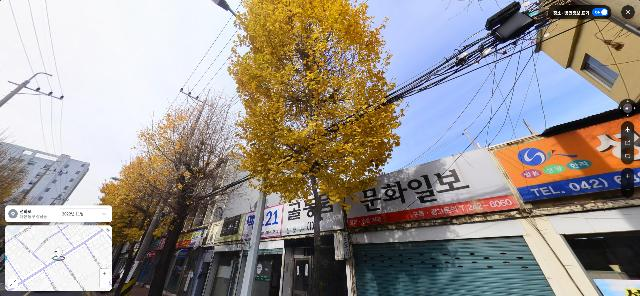ginkgo: (226, 0, 411, 296), (130, 86, 250, 296), (95, 154, 178, 280)
